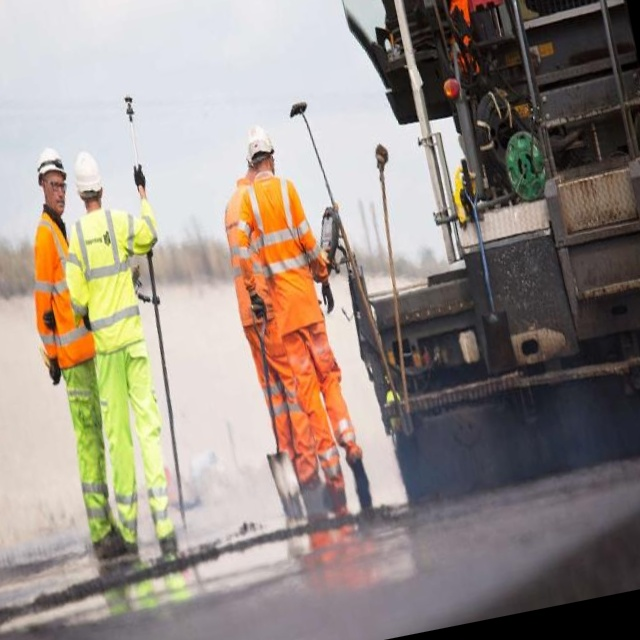Con_Casco: (33, 147, 72, 212), (67, 146, 105, 207), (241, 121, 278, 174)
Con_Chaleco: (241, 169, 325, 332), (23, 216, 98, 365), (69, 209, 146, 350)
